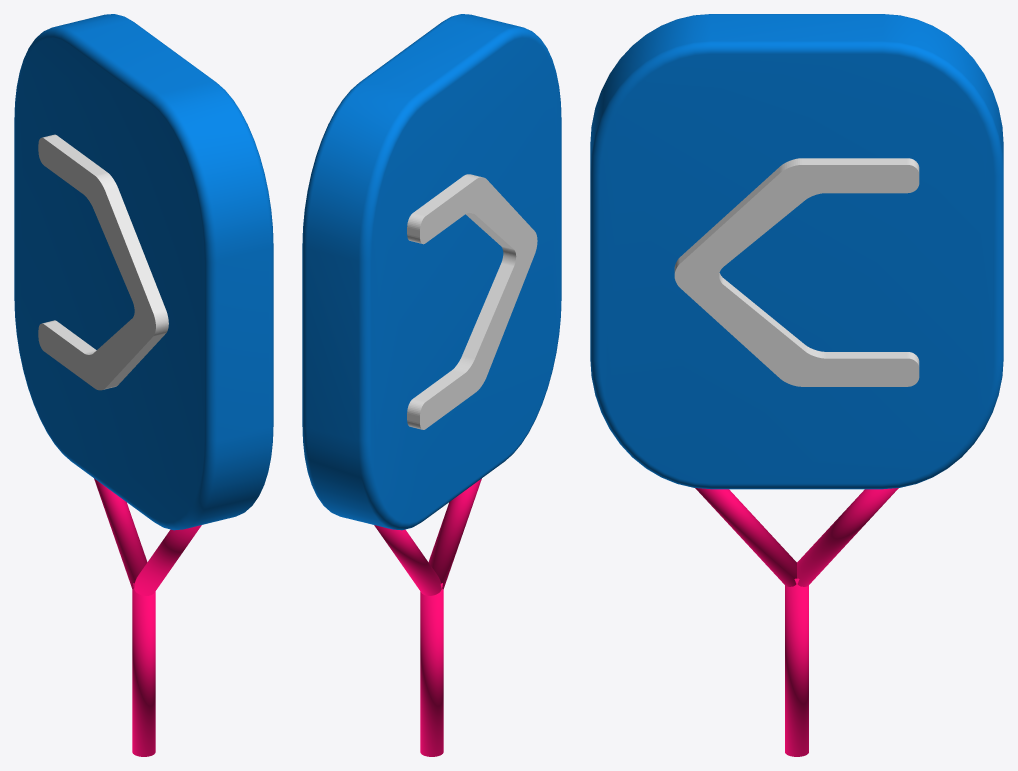
File: direction_pointer.glb
The picture shows the model from 3 angles, left to right: view 1: azimuth 30°, elevation 25°; view 2: azimuth 150°, elevation 25°; view 3: azimuth 270°, elevation 25°; orthographic projection. The views are drawn at different scales.
Visible parts, largest first — view 1: Cube, Cube.001, Cylinder, Cylinder.002, Cylinder.001; view 2: Cube, Cube.001, Cylinder, Cylinder.001, Cylinder.002; view 3: Cube, Cube.001, Cylinder, Cylinder.001, Cylinder.002.
Part boxes in pixels (left/top/right/bottom): Cube: left=14, top=14, right=273, bottom=530; Cube.001: left=38, top=134, right=168, bottom=390; Cylinder: left=132, top=583, right=155, bottom=756; Cylinder.002: left=94, top=478, right=147, bottom=589; Cylinder.001: left=134, top=525, right=201, bottom=595; Cube: left=302, top=14, right=561, bottom=530; Cube.001: left=407, top=174, right=537, bottom=429; Cylinder: left=420, top=583, right=443, bottom=756; Cylinder.001: left=428, top=478, right=481, bottom=589; Cylinder.002: left=374, top=525, right=441, bottom=595; Cube: left=590, top=14, right=1003, bottom=489; Cube.001: left=674, top=158, right=919, bottom=386; Cylinder: left=785, top=578, right=808, bottom=756; Cylinder.001: left=695, top=488, right=796, bottom=586; Cylinder.002: left=797, top=488, right=898, bottom=586.
Bounding box in the file's own units: 0.6514 × 4.61 × 2.39.
